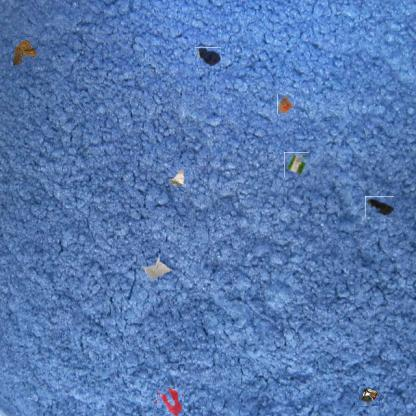dirty: (140, 254, 172, 282), (10, 36, 38, 66), (284, 152, 309, 177), (365, 196, 394, 217), (360, 386, 382, 406), (167, 167, 188, 187), (277, 94, 294, 115)
liquid: (155, 387, 183, 416), (195, 47, 221, 66)
